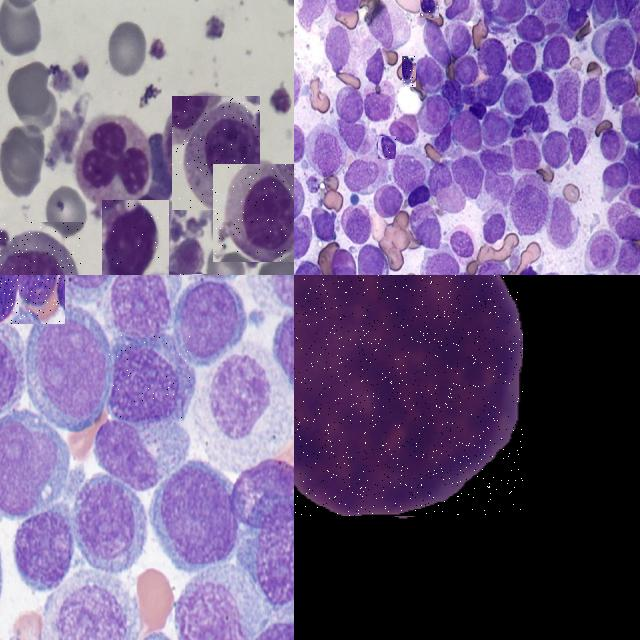ALL Negative Cells: (196, 344, 292, 461), (152, 454, 243, 569), (172, 96, 260, 210), (213, 164, 294, 261), (106, 335, 192, 420), (180, 575, 262, 640), (0, 222, 83, 275), (513, 184, 552, 237), (546, 200, 583, 250), (585, 226, 622, 275), (346, 154, 375, 199)
ALL Positive Cell: (294, 275, 523, 516), (102, 200, 169, 275), (10, 275, 64, 324), (0, 275, 18, 323), (400, 54, 422, 88), (406, 186, 436, 209), (534, 74, 554, 101), (402, 56, 416, 87), (378, 136, 396, 159), (420, 0, 438, 17), (512, 266, 543, 275)
